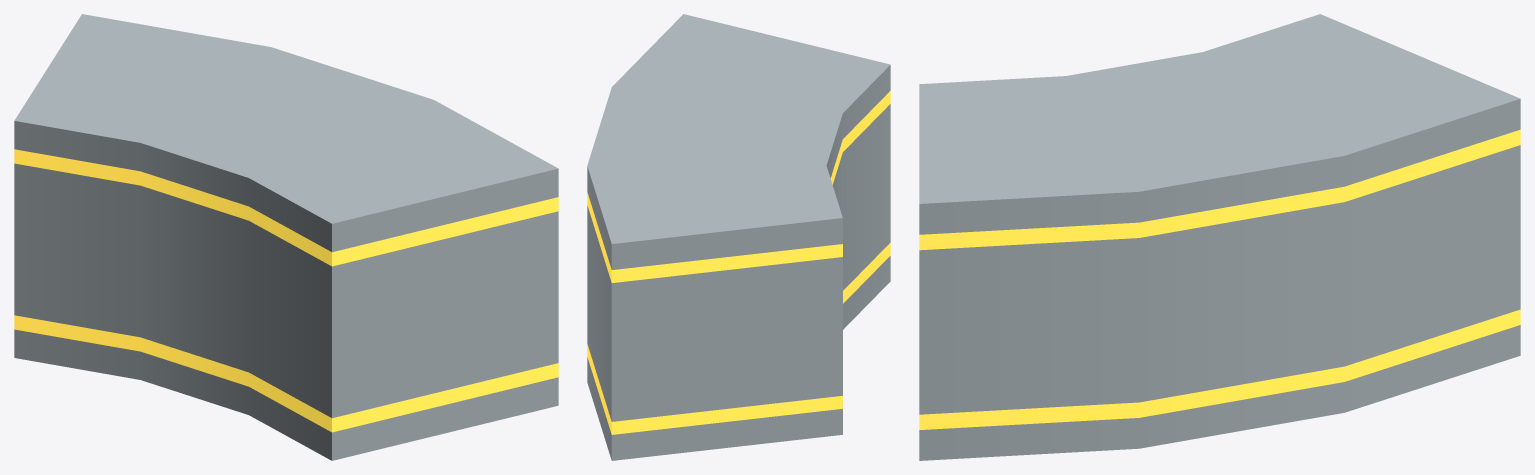
Rendered from SM_45DegreeBend_v0.fbx.
3 views of the same model, side by side, from view 1: azimuth 30°, elevation 25°; view 2: azimuth 150°, elevation 25°; view 3: azimuth 270°, elevation 25° (orthographic). The views are drawn at different scales.
Visible parts, largest first — view 1: SM_45DegreeBend_v0; view 2: SM_45DegreeBend_v0; view 3: SM_45DegreeBend_v0.
Part boxes in pixels (x1,y1,x2,y2): SM_45DegreeBend_v0: [14, 14, 558, 460]; SM_45DegreeBend_v0: [587, 14, 890, 460]; SM_45DegreeBend_v0: [919, 14, 1520, 460].
Size of the model in its own units: 1.59 by 1 by 2.12.
